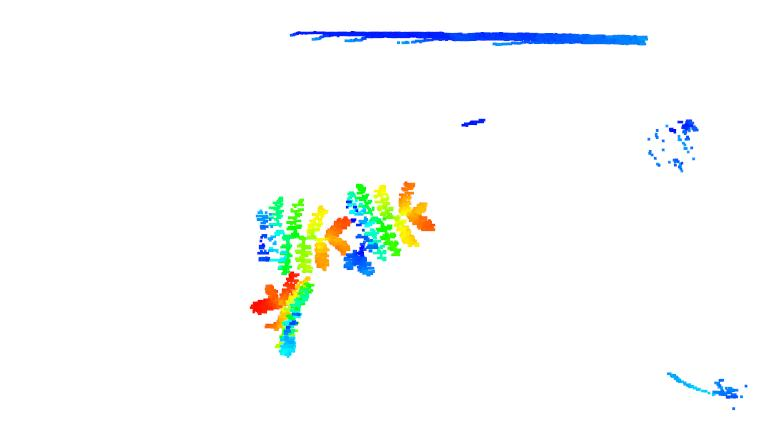chickpea: (339, 181, 432, 275), (251, 193, 348, 275), (250, 272, 314, 358)
